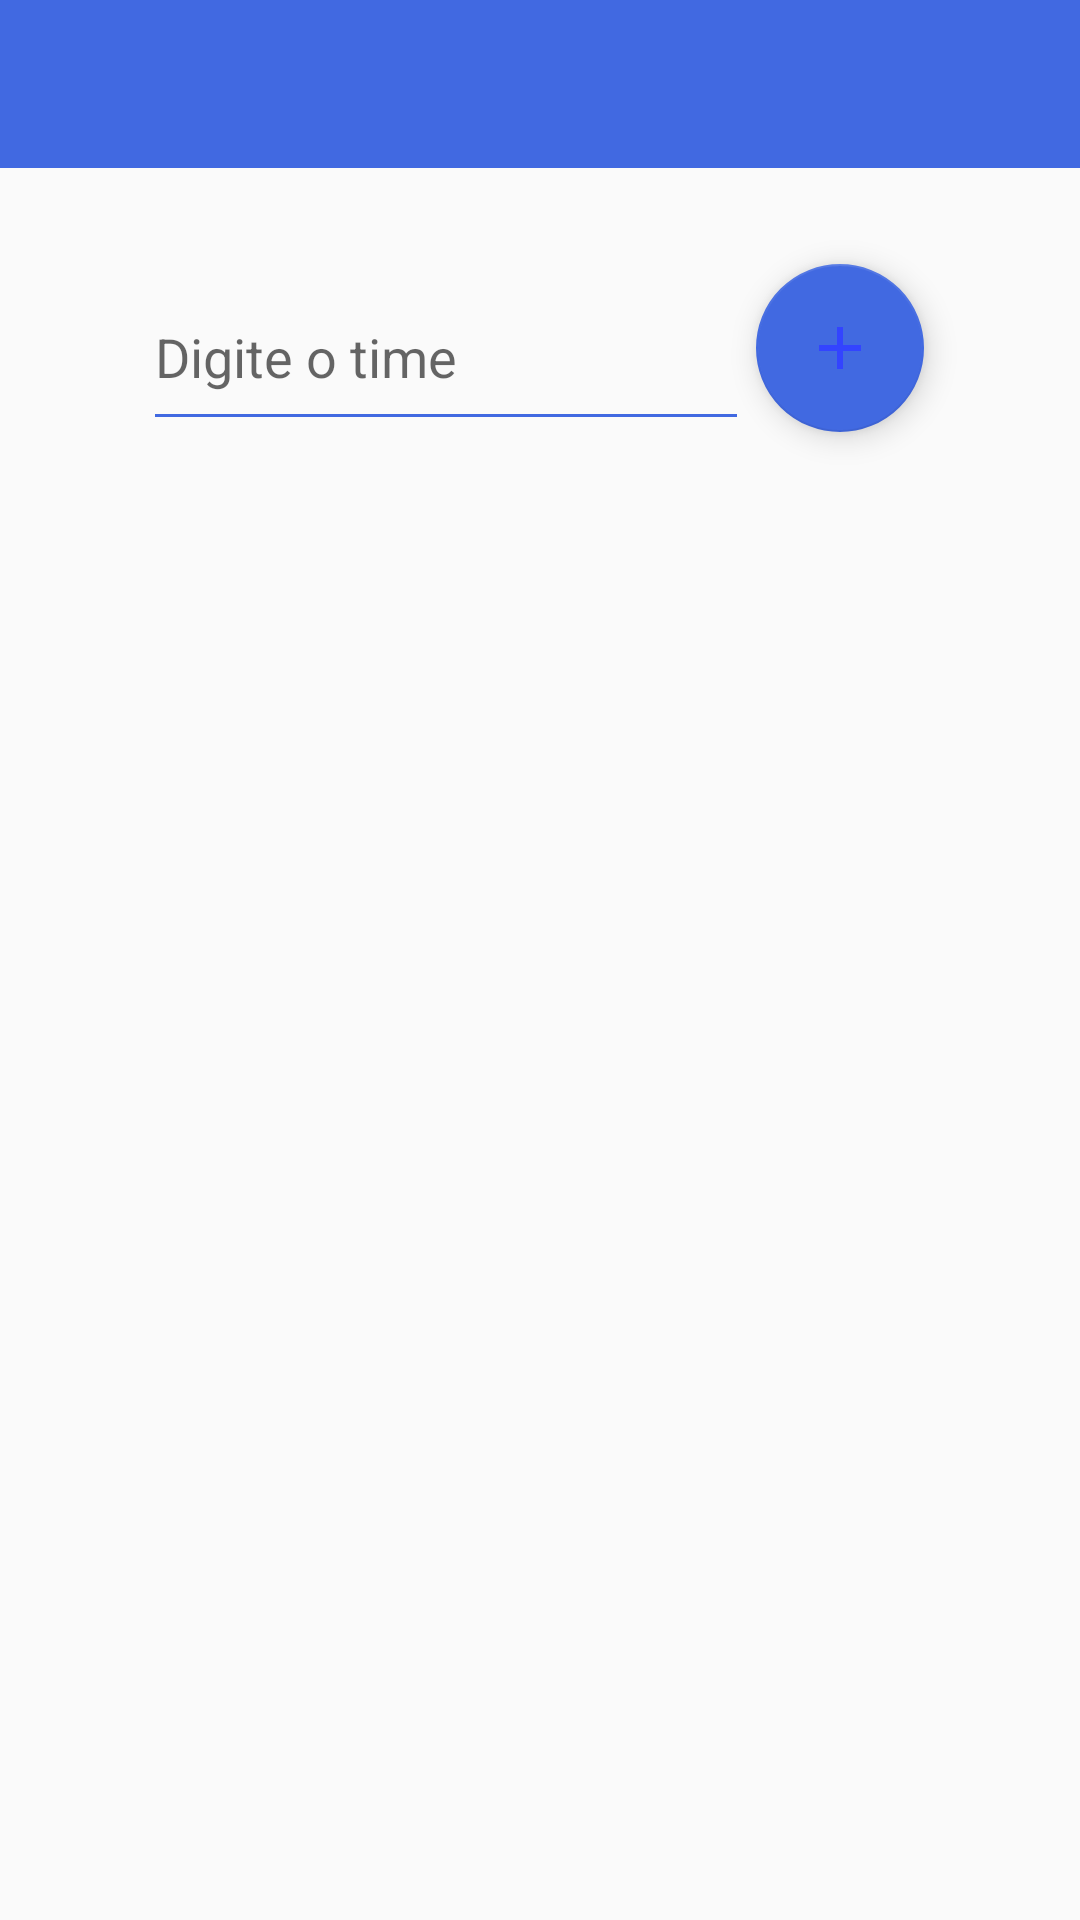

Named icons in this screenshot (1080×1920) and their bounding boxes, (x1, y1, x2, y2):
add floating: (756, 264, 924, 432)
